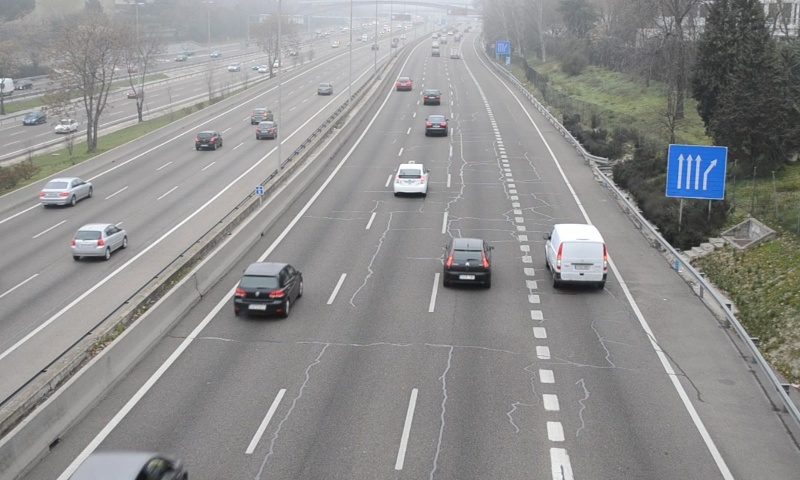car: (234, 263, 302, 318), (444, 238, 491, 286), (393, 164, 428, 192), (424, 114, 448, 138), (422, 87, 441, 106), (395, 76, 412, 91)
van: (548, 223, 608, 288)
